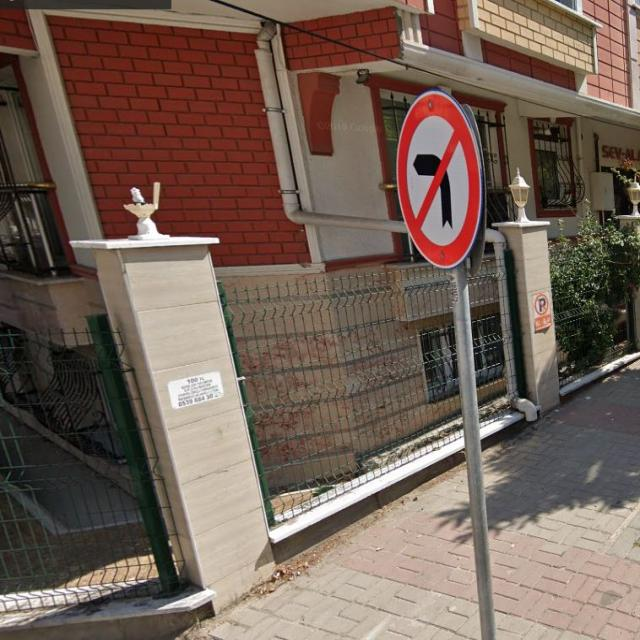soladonulmez: (397, 90, 479, 269)
